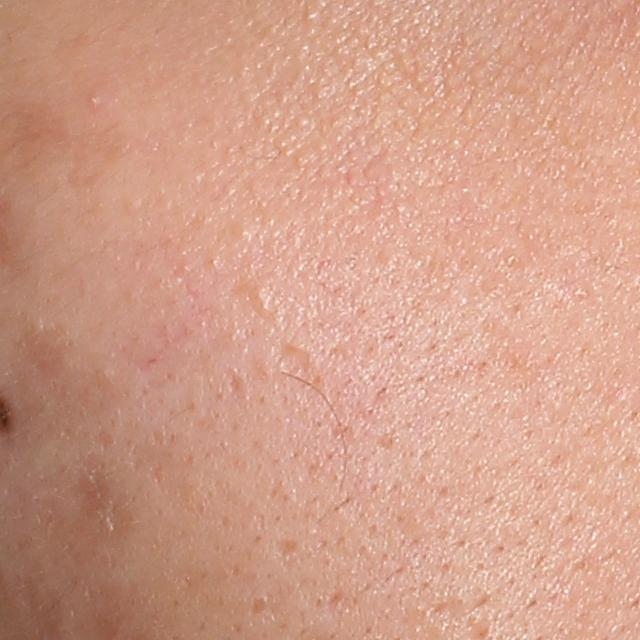atrophic_scar: (274, 536, 299, 561), (325, 587, 347, 610)
comedo: (255, 288, 275, 314), (84, 95, 103, 108)
